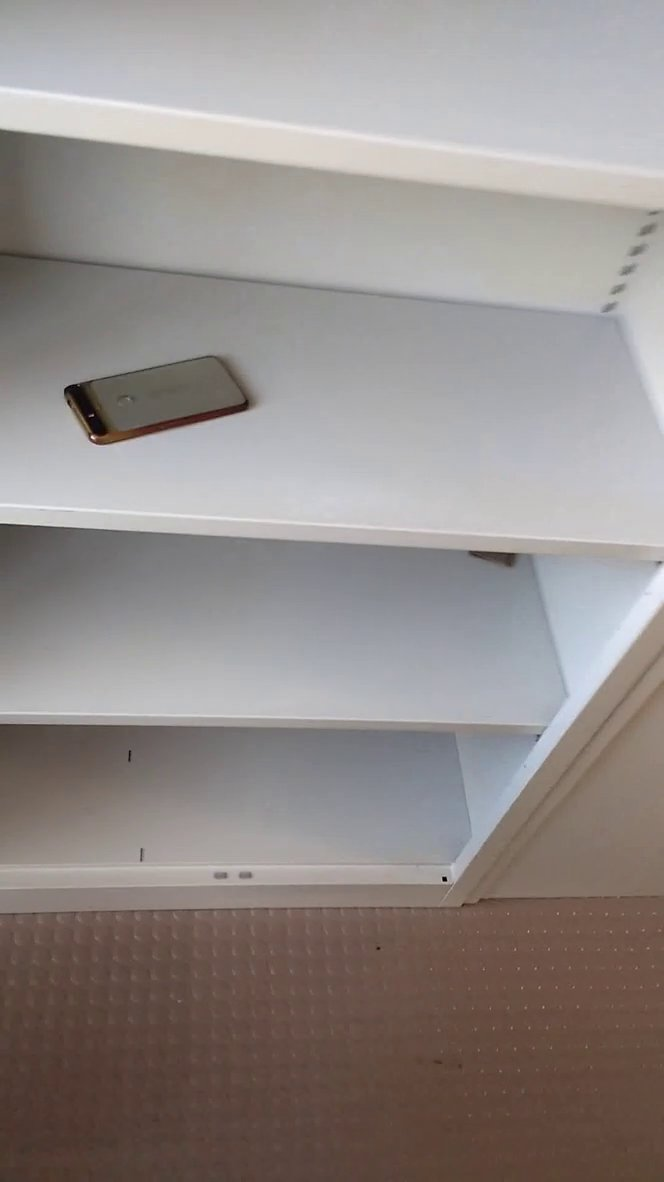phone: (59, 344, 262, 455)
